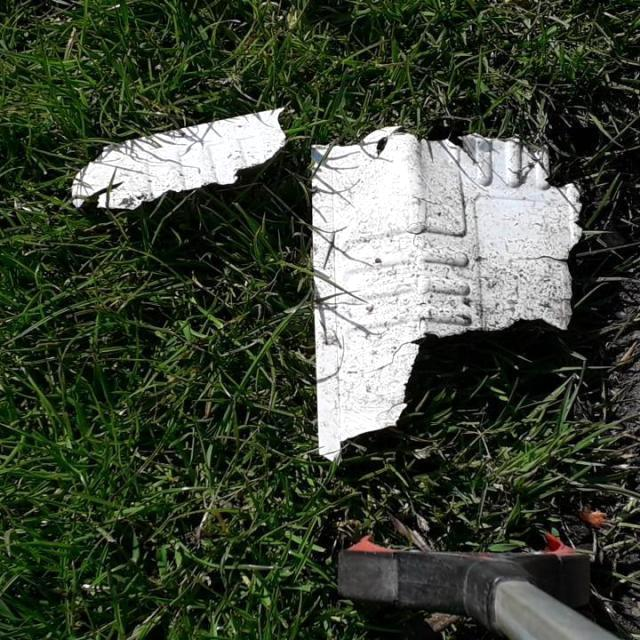Paper: (303, 121, 587, 471)
